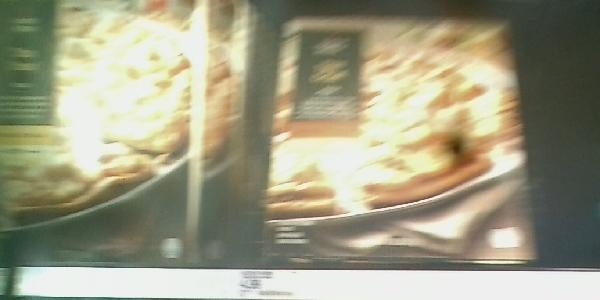pizza1: (257, 5, 544, 264), (1, 1, 205, 264)
